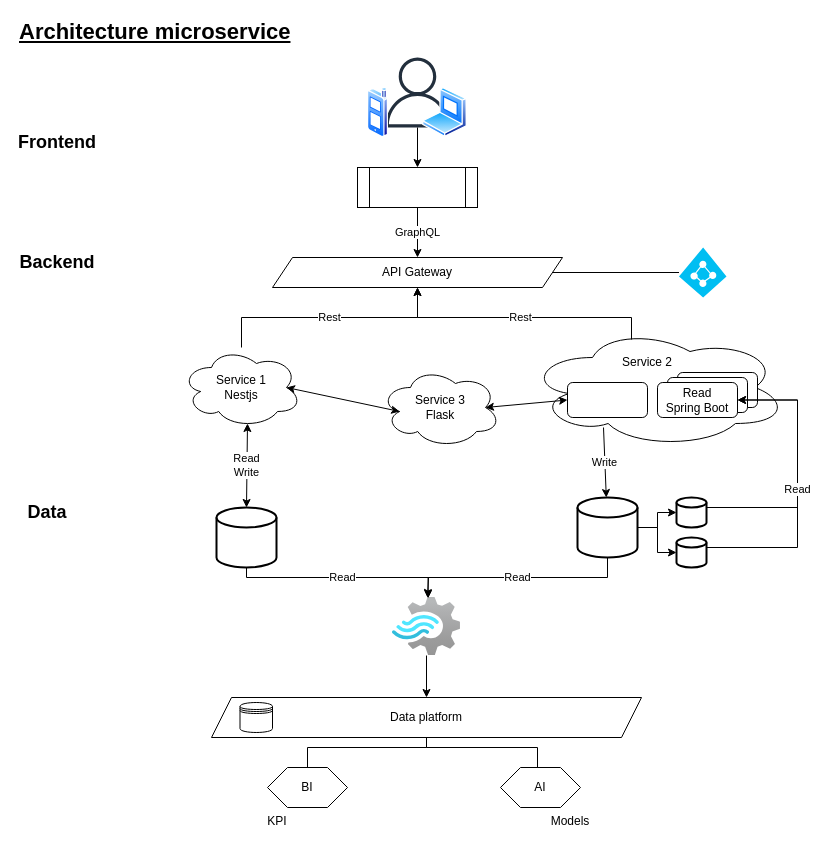
Some shapes in this 827 by 853 pixel diagram are drawn without their labels. The centre of each missing label's shape, as x and y in pixels:
Active Directory: point (702, 272)
ETL: point (426, 626)
Frontend Web (PWA): point (417, 187)
Write Spring Boot: point (607, 400)
